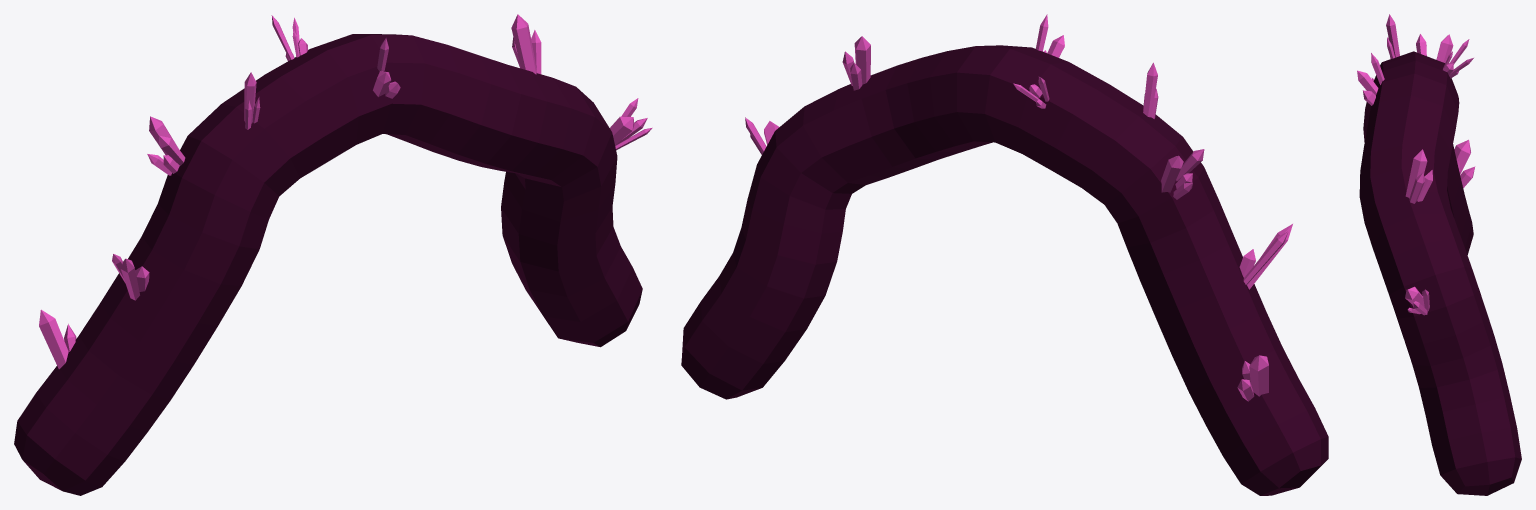
Rendered from roots_1.fbx.
3 renders of one model, left to right at view 1: azimuth 30°, elevation 25°; view 2: azimuth 150°, elevation 25°; view 3: azimuth 270°, elevation 25°, orthographic. The views are drawn at different scales.
Visible parts, largest first — view 1: roots_1; view 2: roots_1; view 3: roots_1.
Boxes of the visible parts, box(x1,y1,x2,y2) form: roots_1: box(14, 14, 652, 495); roots_1: box(681, 14, 1328, 495); roots_1: box(1357, 14, 1521, 495).
Bounding box in the file's own units: 309 × 193 × 85.65.
